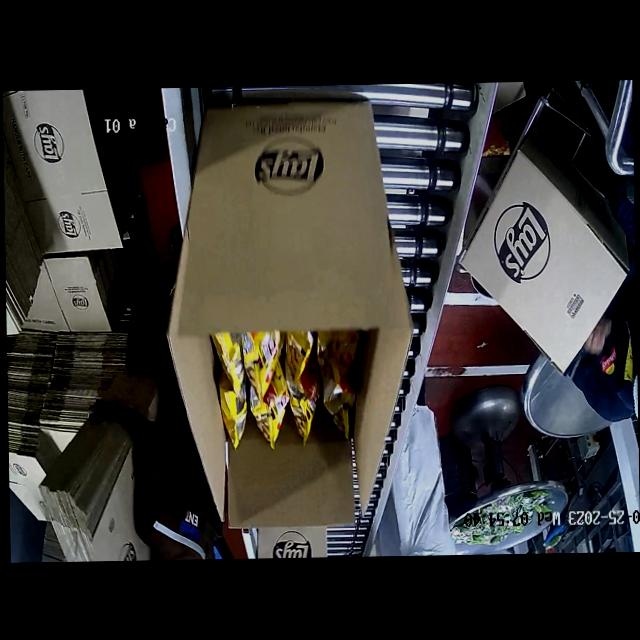salted: (204, 326, 377, 500)
